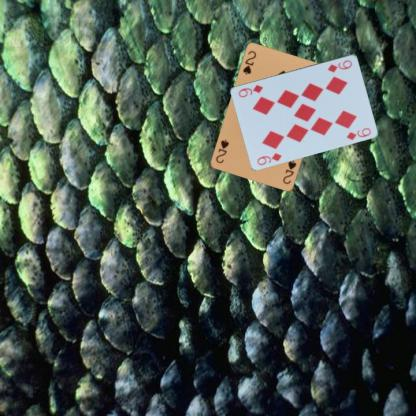2s: (280, 158, 298, 185), (240, 49, 258, 76)
9d: (324, 58, 354, 74), (255, 150, 283, 166)
